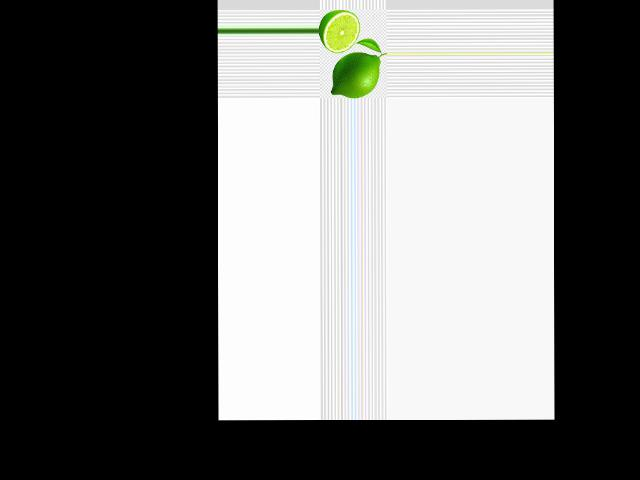lemon: (329, 45, 381, 97)
